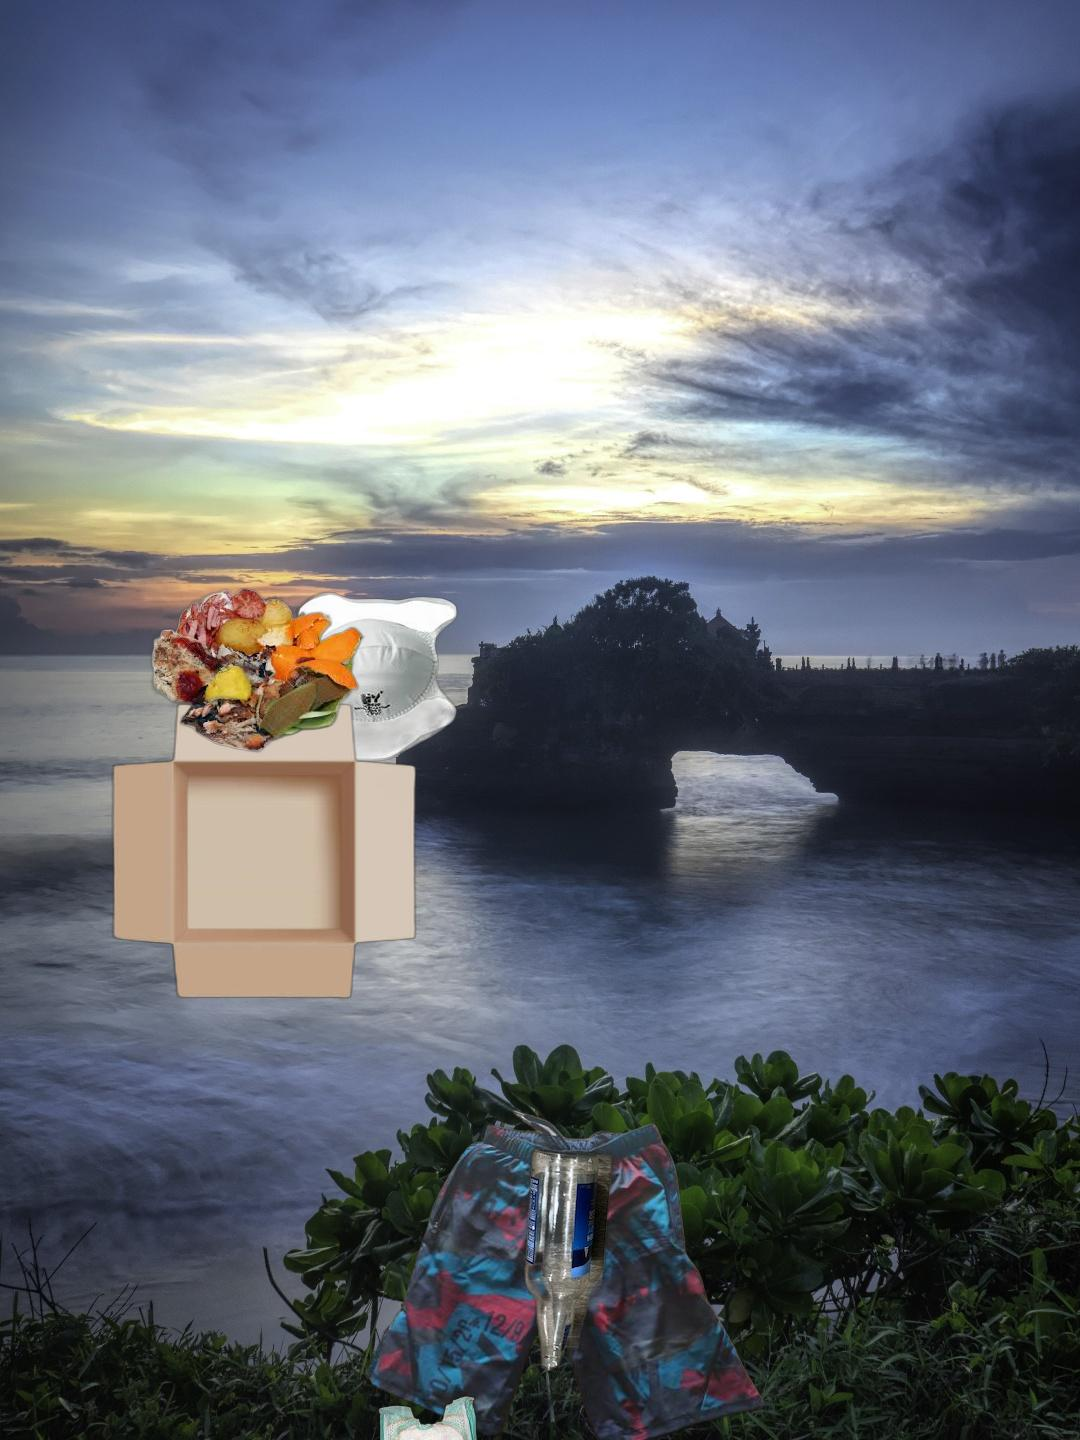biological: (146, 579, 366, 756)
clothes: (364, 1104, 763, 1440)
glass: (520, 1141, 617, 1377)
trash: (285, 590, 459, 766), (376, 1372, 482, 1440)
trashbox-cardboard: (107, 700, 422, 1001)
